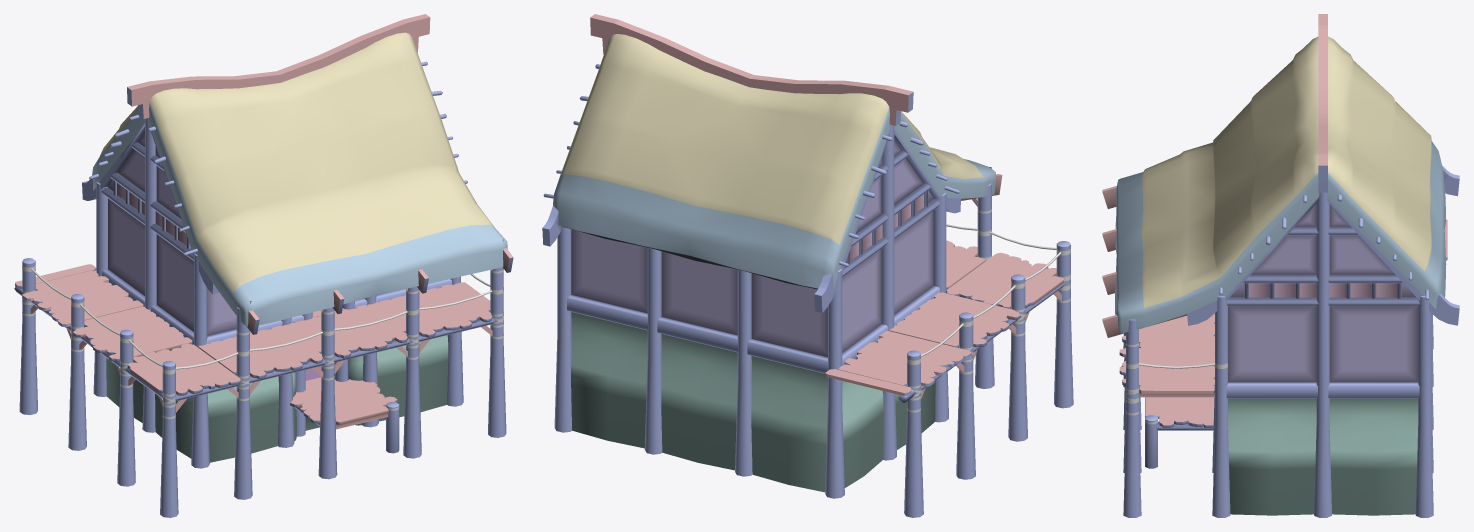
The model's file is farmhouse2.fbx.
The picture shows the model from 3 angles, left to right: view 1: azimuth 30°, elevation 25°; view 2: azimuth 150°, elevation 25°; view 3: azimuth 270°, elevation 25°; orthographic projection. The views are drawn at different scales.
Visible parts, largest first — view 1: Farmhouse02:25, Farmhouse02:5 - L2_Rope:5 - L1_Posts:5, Farmhouse02:19 - L2_Rope:19 - L1_Posts:19, Farmhouse02:4, Farmhouse02:1, Farmhouse02:6, L2_Rope:22, L2_Rope:18, Farmhouse02:14; view 2: Farmhouse02:5 - L2_Rope:5 - L1_Posts:5, Farmhouse02:25, Farmhouse02:1, Farmhouse02:6, Farmhouse02:4, Farmhouse02:19 - L2_Rope:19 - L1_Posts:19, L2_Rope:22, L2_Rope:18, Farmhouse02:14; view 3: Farmhouse02:25, Farmhouse02:5 - L2_Rope:5 - L1_Posts:5, Farmhouse02:1, Farmhouse02:6, Farmhouse02:4, Farmhouse02:19 - L2_Rope:19 - L1_Posts:19, Farmhouse02:14.
Part boxes in pixels (x1,y1,x2,y2): Farmhouse02:25: [99, 32, 495, 292]; Farmhouse02:5 - L2_Rope:5 - L1_Posts:5: [14, 61, 513, 517]; Farmhouse02:19 - L2_Rope:19 - L1_Posts:19: [15, 14, 513, 429]; Farmhouse02:4: [92, 101, 507, 326]; Farmhouse02:1: [106, 335, 448, 462]; Farmhouse02:6: [108, 133, 236, 335]; L2_Rope:22: [22, 265, 503, 422]; L2_Rope:18: [31, 268, 492, 369]; Farmhouse02:14: [117, 183, 186, 245]; Farmhouse02:5 - L2_Rope:5 - L1_Posts:5: [542, 64, 1073, 517]; Farmhouse02:25: [560, 34, 982, 244]; Farmhouse02:1: [571, 312, 935, 492]; Farmhouse02:6: [571, 140, 933, 357]; Farmhouse02:4: [553, 107, 996, 289]; Farmhouse02:19 - L2_Rope:19 - L1_Posts:19: [590, 14, 1063, 398]; L2_Rope:22: [907, 209, 1070, 412]; L2_Rope:18: [921, 224, 1061, 356]; Farmhouse02:14: [849, 194, 923, 260]; Farmhouse02:25: [1142, 36, 1431, 307]; Farmhouse02:5 - L2_Rope:5 - L1_Posts:5: [1119, 165, 1459, 517]; Farmhouse02:1: [1228, 398, 1418, 515]; Farmhouse02:6: [1228, 204, 1418, 382]; Farmhouse02:4: [1115, 141, 1446, 333]; Farmhouse02:19 - L2_Rope:19 - L1_Posts:19: [1102, 14, 1447, 426]; Farmhouse02:14: [1249, 283, 1396, 297].
Size of the model in its own units: 109198 by 100000 by 89994.
